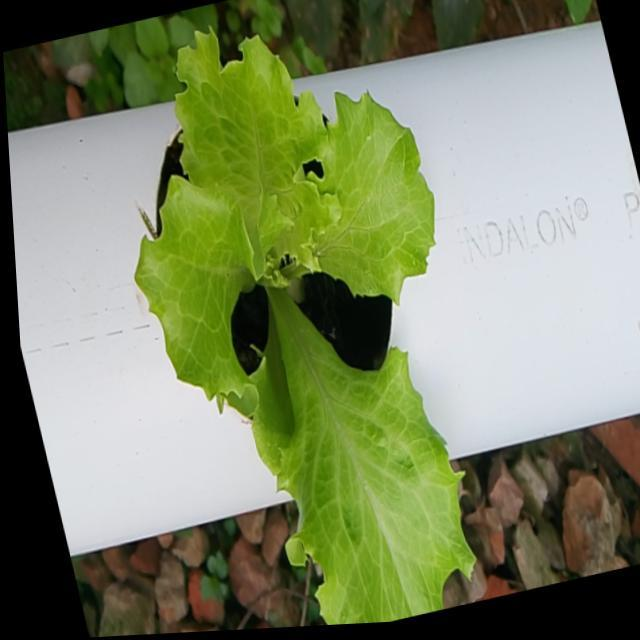Baby: (140, 29, 480, 625)
